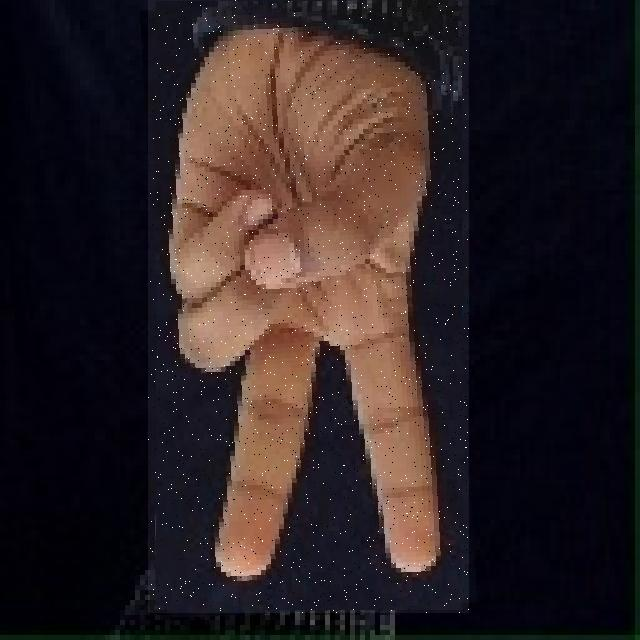No: (148, 0, 469, 613)
